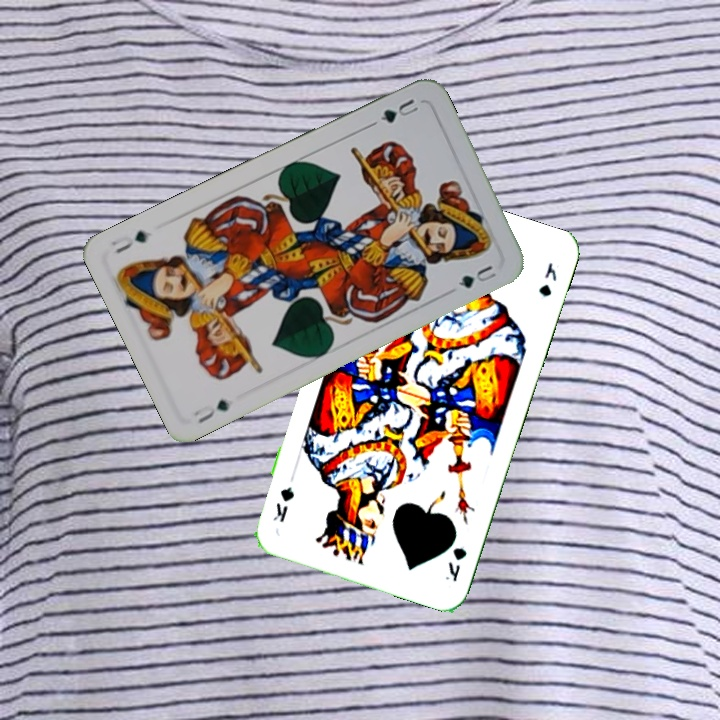GK: (441, 543, 469, 584)
GU: (367, 94, 421, 129), (190, 395, 233, 426)
